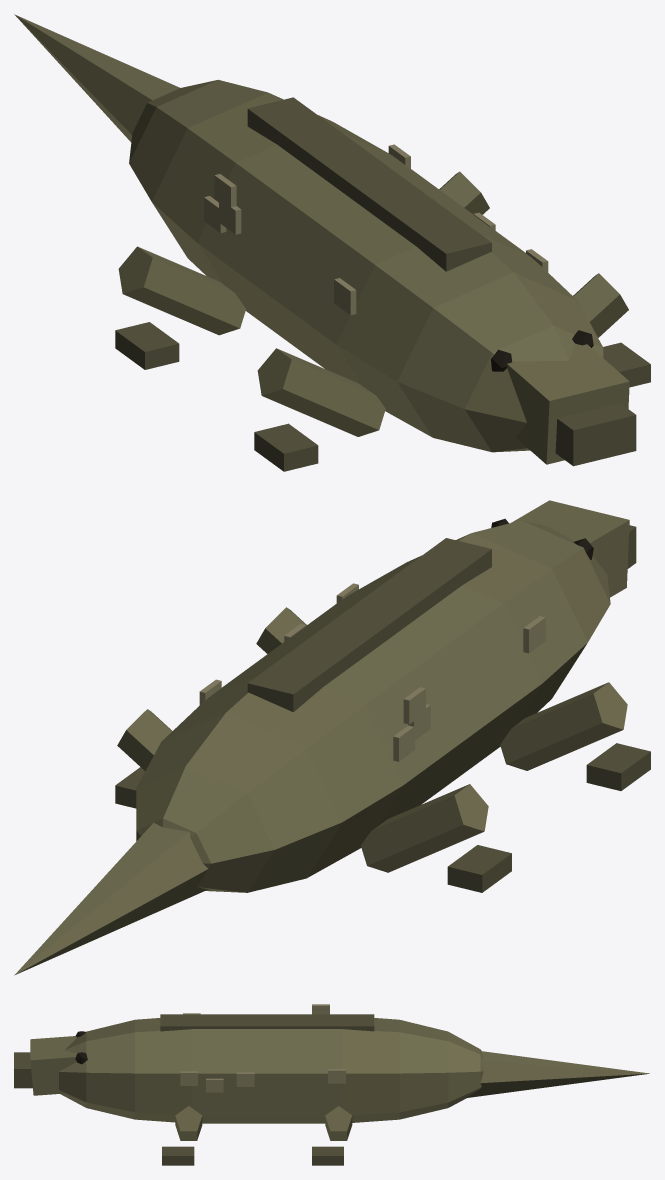
File: komodo.glb
The picture shows the model from 3 angles, top to bottom: view 1: azimuth 30°, elevation 25°; view 2: azimuth 150°, elevation 25°; view 3: azimuth 270°, elevation 25°; orthographic projection. The views are drawn at different scales.
Parts seen in each view (by area): view 1: kbs_komodo, object 2; view 2: kbs_komodo, object 2; view 3: kbs_komodo, object 2.
Boxes of the visible parts, x1=… form: kbs_komodo: x1=14, y1=14, x2=650, y2=471; object 2: x1=491, y1=330, x2=636, y2=466; kbs_komodo: x1=14, y1=520, x2=650, y2=975; object 2: x1=491, y1=500, x2=636, y2=597; kbs_komodo: x1=59, y1=1004, x2=649, y2=1165; object 2: x1=14, y1=1031, x2=87, y2=1095.
Bounding box in the file's own units: 0.8671 × 0.4236 × 2.42.
